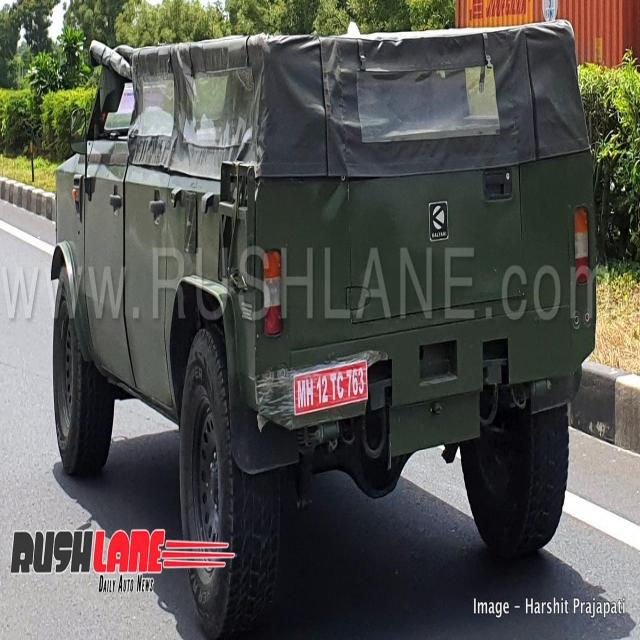plate: (291, 355, 374, 416)
